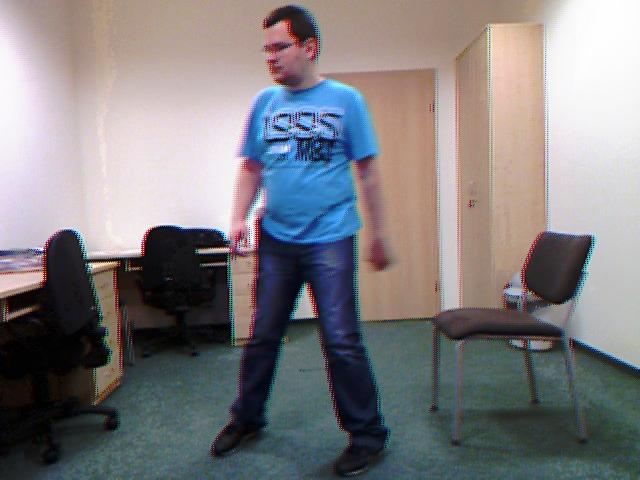walking: (220, 0, 418, 480)
